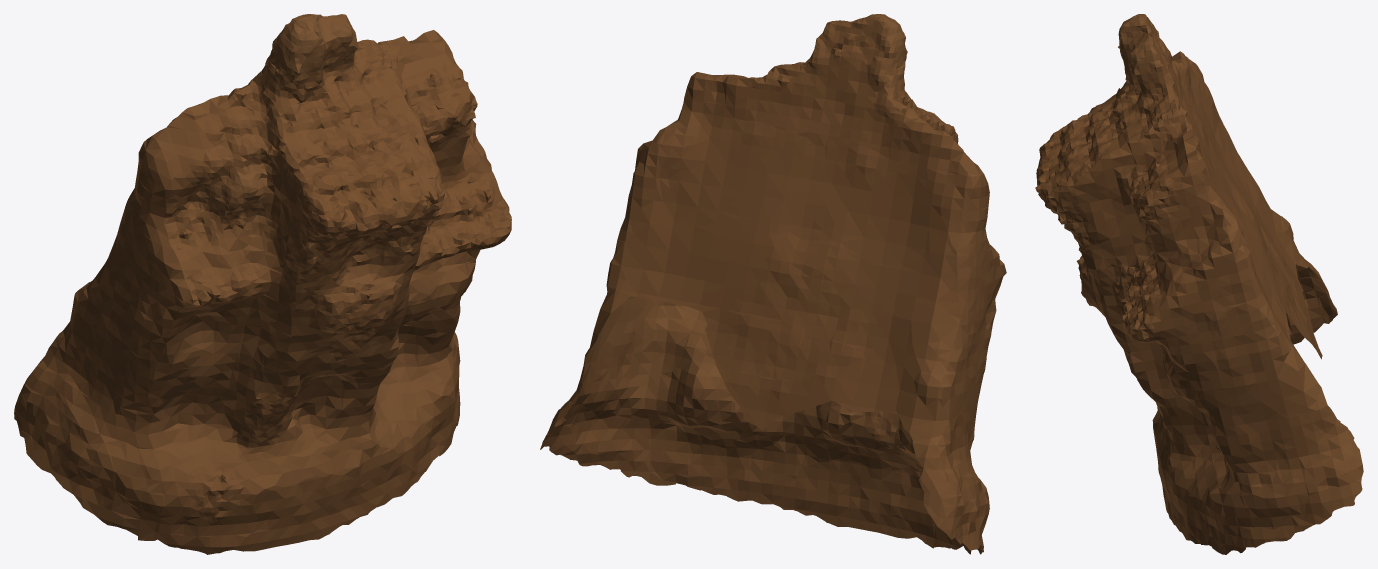
The model's file is Home_Menorca.obj.
3 renders of one model, left to right at view 1: azimuth 30°, elevation 25°; view 2: azimuth 150°, elevation 25°; view 3: azimuth 270°, elevation 25°, orthographic. The views are drawn at different scales.
Size of the model in its own units: 3.11 by 3.73 by 2.31.
